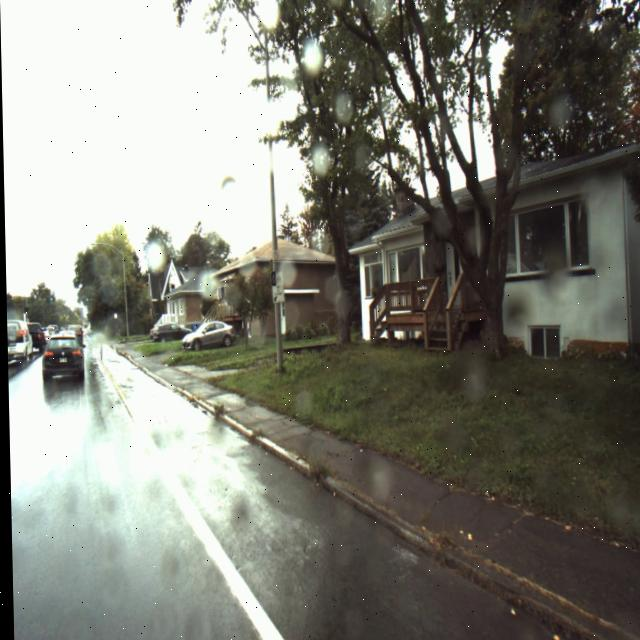car: (40, 333, 84, 386), (181, 319, 235, 352), (6, 320, 32, 363), (151, 325, 189, 342)
